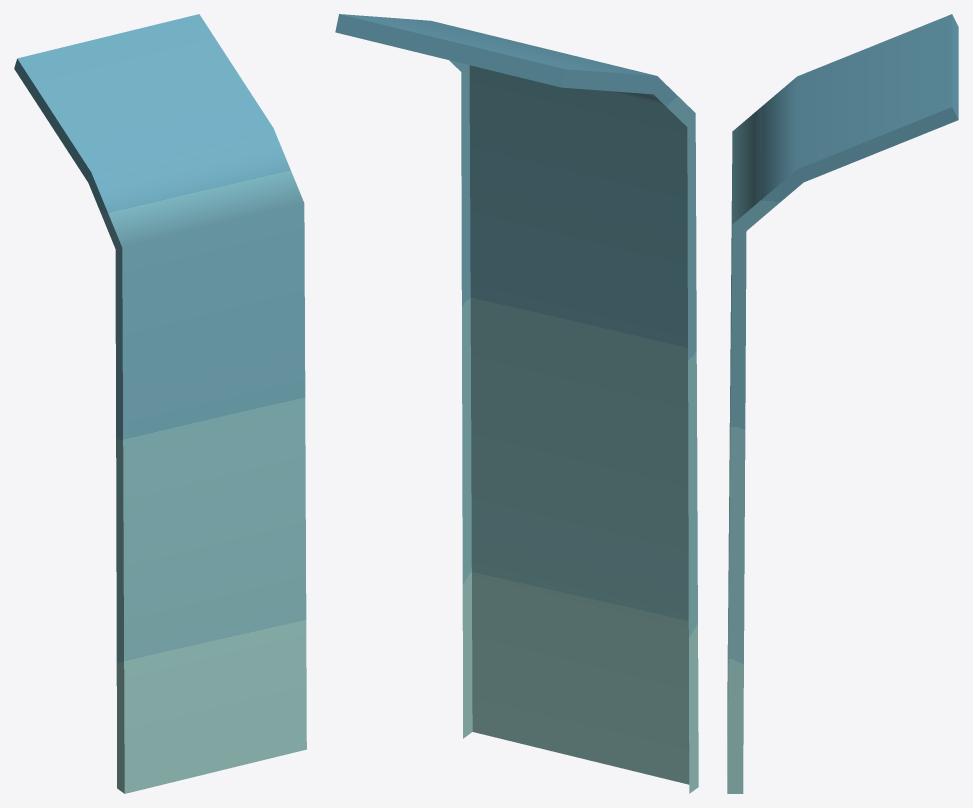
Rendered from SM_waterfall.fbx.
3 renders of one model, left to right at view 1: azimuth 30°, elevation 25°; view 2: azimuth 150°, elevation 25°; view 3: azimuth 270°, elevation 25°, orthographic. The views are drawn at different scales.
Visible parts, largest first — view 1: waterfall; view 2: waterfall; view 3: waterfall.
Boxes of the visible parts, x1,y1,x2,y2 form: waterfall: [14, 14, 306, 793]; waterfall: [335, 14, 698, 793]; waterfall: [727, 14, 958, 793].
Bounding box in the file's own units: 433 × 1493 × 456.
